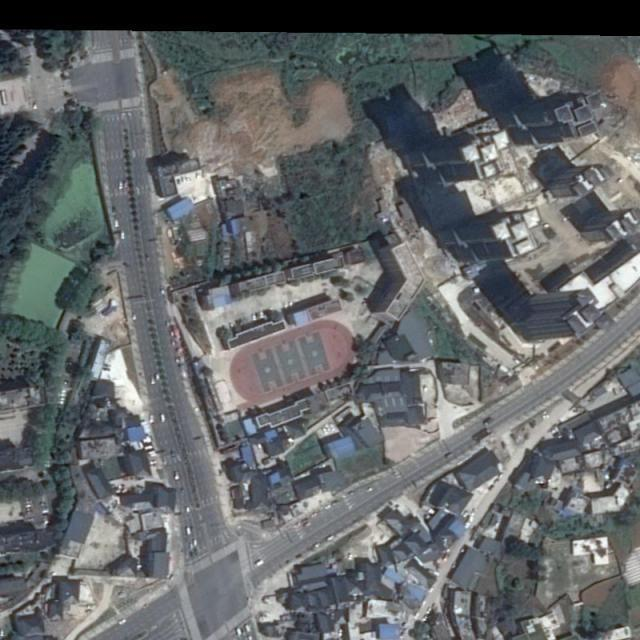vehicle: (479, 414, 498, 431), (115, 615, 130, 627), (119, 229, 127, 242), (149, 412, 156, 425), (174, 470, 181, 483), (184, 526, 192, 537), (160, 413, 168, 424), (149, 374, 156, 386), (244, 622, 251, 633), (185, 505, 192, 516), (114, 218, 120, 230), (118, 178, 124, 190), (254, 560, 263, 566), (236, 626, 242, 635)
